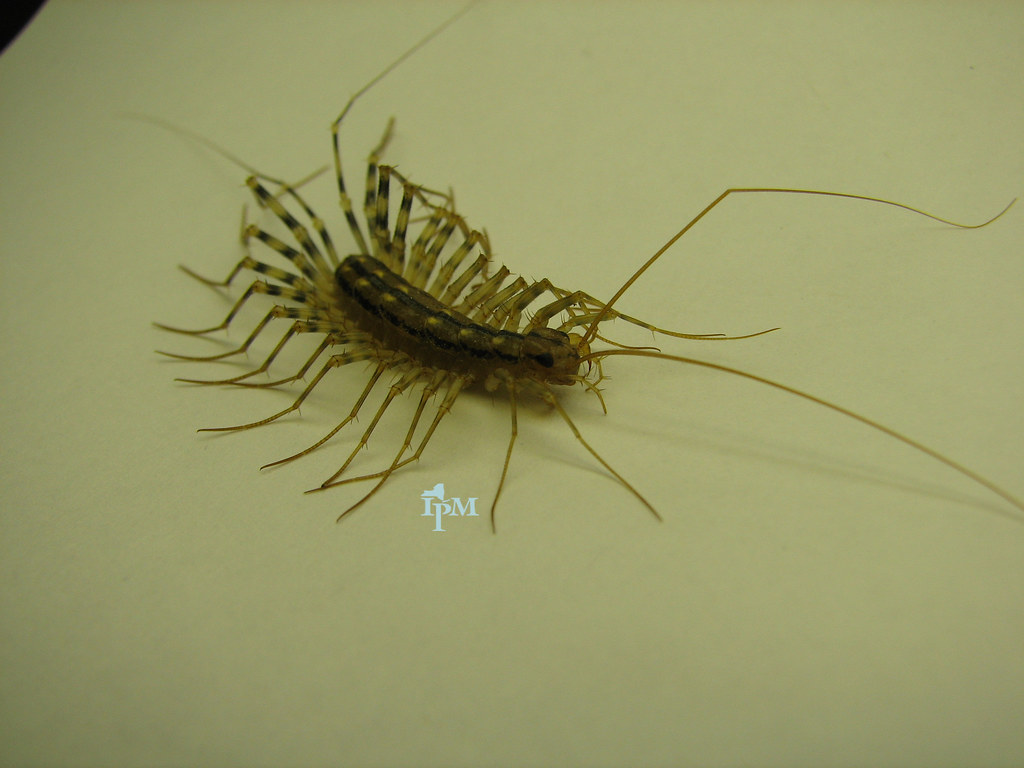centipede: (162, 89, 985, 547)
